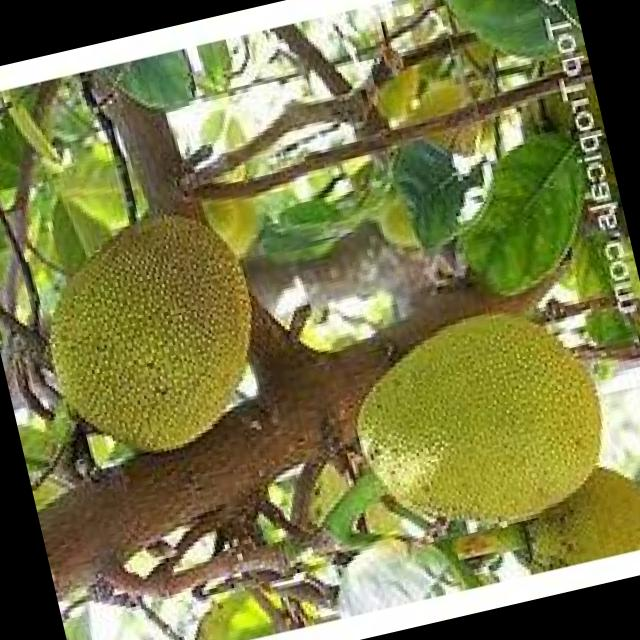Fruit: (0, 171, 312, 494), (318, 267, 640, 573)
